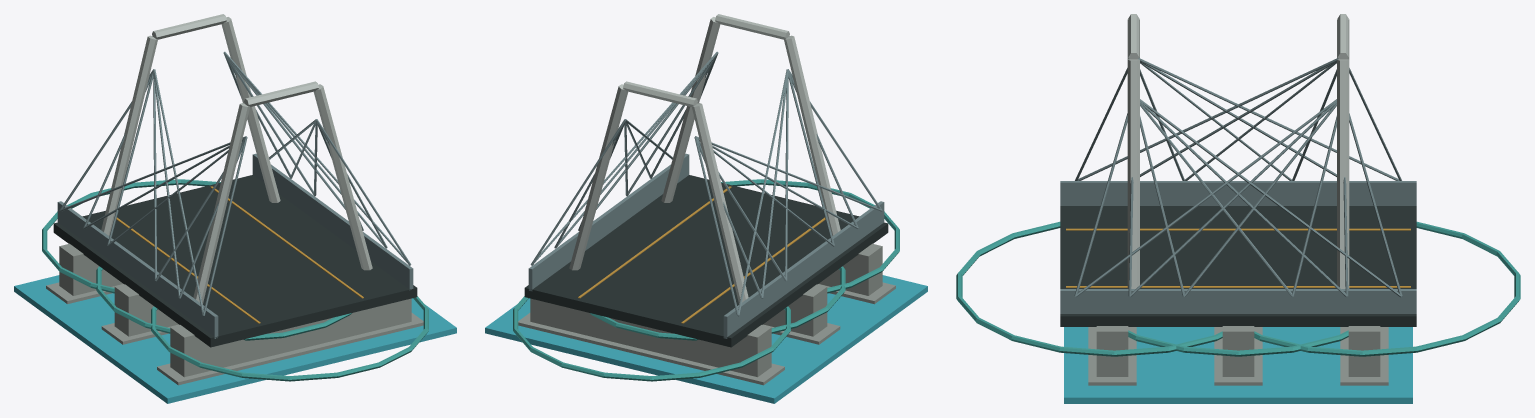
File: bridge_lv4.glb
3 views of the same model, side by side, from view 1: azimuth 30°, elevation 25°; view 2: azimuth 150°, elevation 25°; view 3: azimuth 270°, elevation 25° (orthographic). The views are drawn at different scales.
Visible parts, largest first — view 1: rough, metallic, glossy; view 2: rough, metallic, glossy; view 3: rough, metallic, glossy.
Boxes of the visible parts, bbox=[...] form: rough: bbox=[42, 14, 428, 385]; metallic: bbox=[57, 51, 413, 338]; glossy: bbox=[14, 275, 456, 403]; rough: bbox=[513, 14, 899, 385]; metallic: bbox=[528, 51, 884, 338]; glossy: bbox=[485, 275, 927, 403]; rough: bbox=[956, 14, 1520, 385]; metallic: bbox=[1060, 58, 1416, 313]; glossy: bbox=[1064, 327, 1412, 403].
Bounding box in the file's own units: 9.8 × 8.26 × 14.55.
